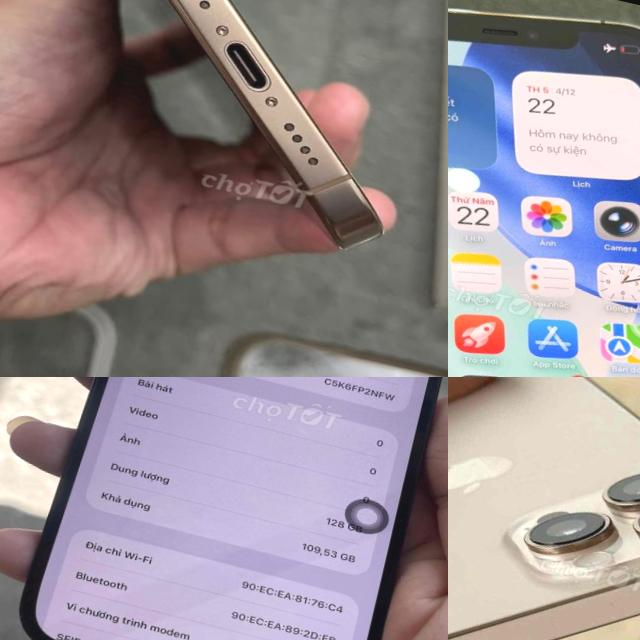gen_12_13: (448, 0, 640, 377)
gen_14: (6, 377, 448, 640)
gen_16: (21, 0, 448, 254), (448, 377, 640, 640)
